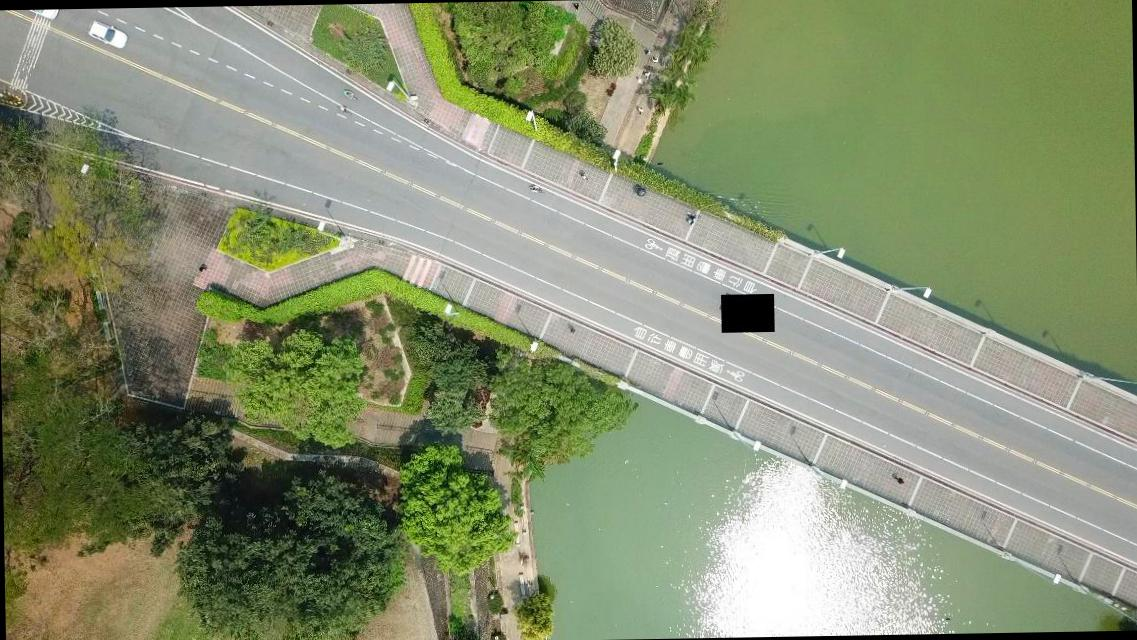vehicle: (86, 18, 128, 51), (21, 8, 58, 20)
